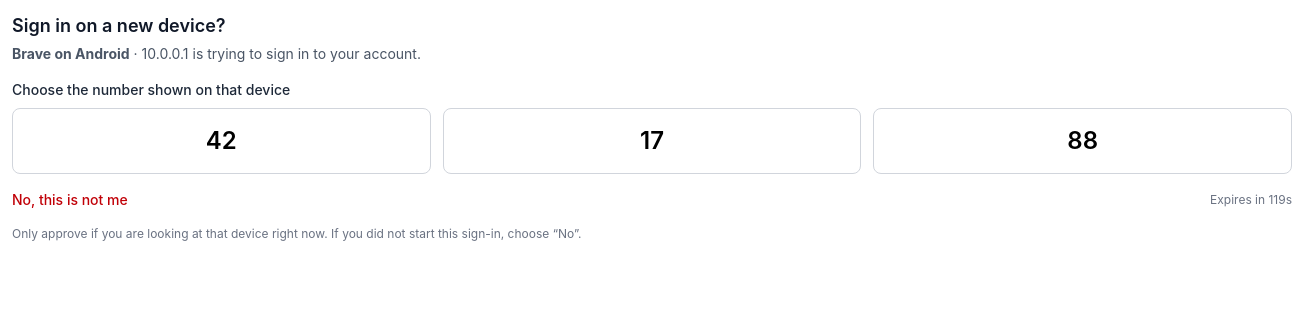
ApprovalCard › keeps the card open with an error on a wrong number
The width and height of the screenshot is (1304, 312).
Click the button with test id "choice-88" at [1083, 141], box x1=873 y1=108 x2=1292 y2=174
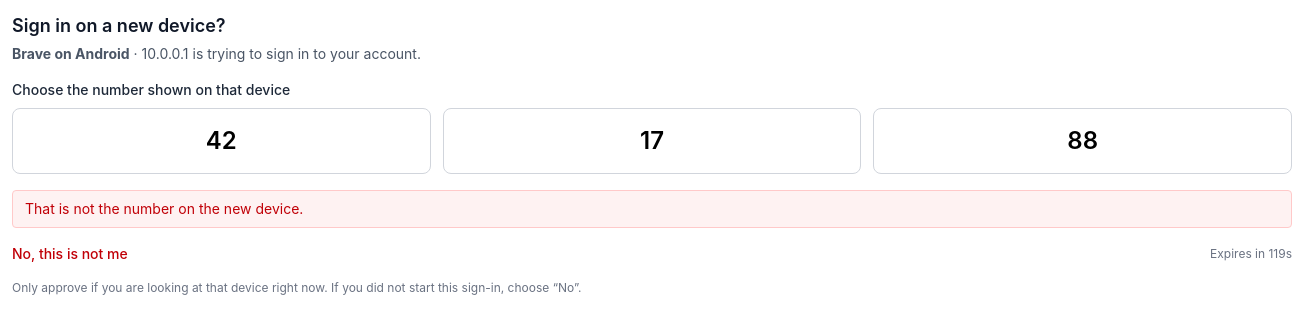
Now the text "That is not the number on the new device." is shown, box x1=12 y1=190 x2=1292 y2=228
